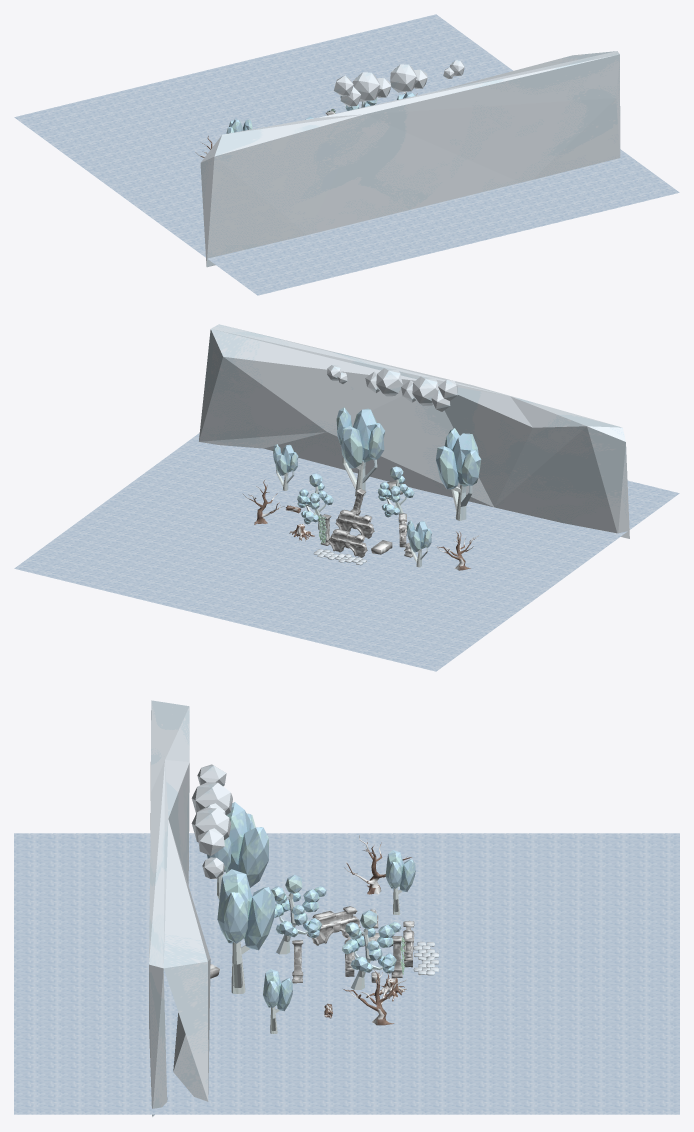
3 views of the same model, one above another, from view 1: azimuth 30°, elevation 25°; view 2: azimuth 150°, elevation 25°; view 3: azimuth 270°, elevation 25° (orthographic). The views are drawn at different scales.
Visible parts, largest first — view 1: Ground_0, RockModular02_001, cloud 12; view 2: Ground_0, RockModular02_001, Tree_007, Tree_008, cloud 12, Tree_004, Tree_1, Tree_006, Tree_3, ArchBroken01_0, ArchBroken01_001; view 3: Ground_0, RockModular02_001, Tree_007, cloud 12, Tree_008, Tree_1, Tree_004, Tree_006, Tree_3, ArchBroken01_002, Tree_2, Paveway01_0.
Boxes of the visible parts, <box> form: Ground_0: <box>14,14,679,295</box>; RockModular02_001: <box>200,51,620,267</box>; cloud 12: <box>334,60,464,106</box>; Ground_0: <box>14,433,679,671</box>; RockModular02_001: <box>199,324,629,538</box>; Tree_007: <box>336,407,385,496</box>; Tree_008: <box>436,428,481,520</box>; cloud 12: <box>327,365,457,411</box>; Tree_004: <box>378,466,414,522</box>; Tree_1: <box>297,473,333,530</box>; Tree_006: <box>273,444,298,490</box>; Tree_3: <box>407,520,431,567</box>; ArchBroken01_0: <box>328,529,367,557</box>; ArchBroken01_001: <box>335,509,374,538</box>; Ground_0: <box>14,833,679,1114</box>; RockModular02_001: <box>149,700,210,1116</box>; Tree_007: <box>217,869,275,993</box>; cloud 12: <box>191,764,232,878</box>; Tree_008: <box>207,802,268,899</box>; Tree_1: <box>342,910,401,989</box>; Tree_004: <box>271,874,326,954</box>; Tree_006: <box>263,969,292,1033</box>; Tree_3: <box>385,850,415,914</box>; ArchBroken01_002: <box>307,906,360,945</box>; Tree_2: <box>343,970,406,1025</box>; Paveway01_0: <box>413,941,438,975</box>.
Bounding box in the file's own units: 80.31 × 24.72 × 80.
